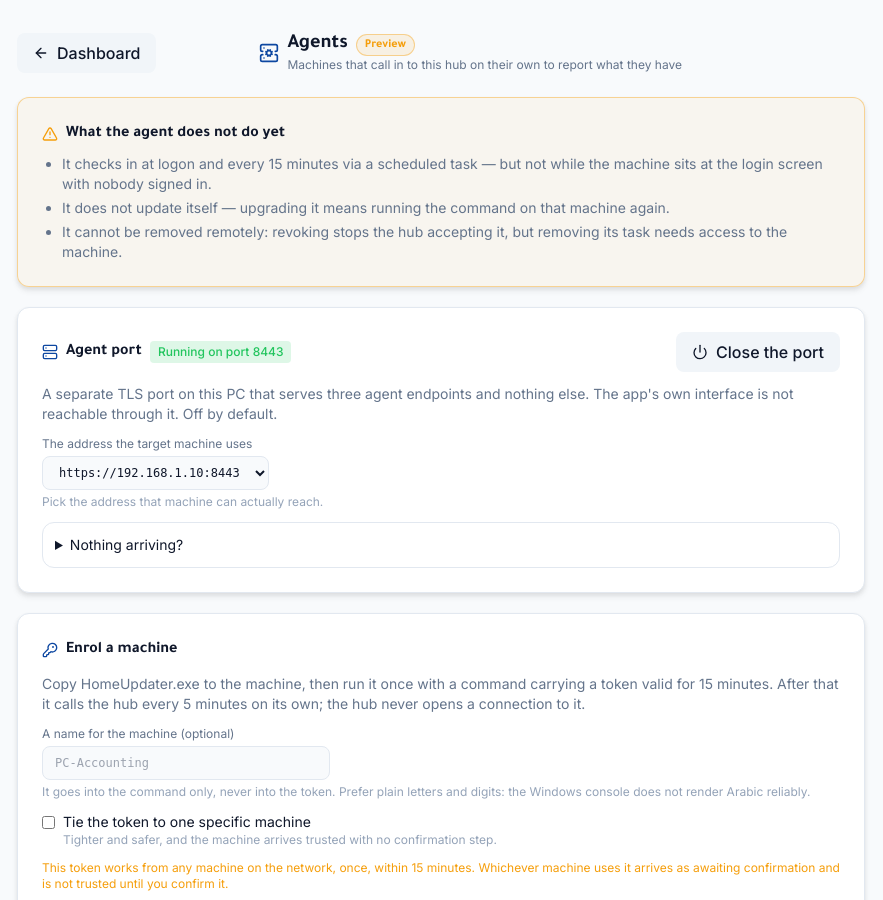
Test case: minting a token › asks where to get the fingerprint when binding to one machine
This screenshot has width=883, height=900.
Expected: the element with test id "listener-ready" is shown, [17, 307, 865, 593]
Click the checkbox labelled "Tie the token to one specific machine".
click(48, 822)  # box [42, 816, 55, 829]
(page scrolled)
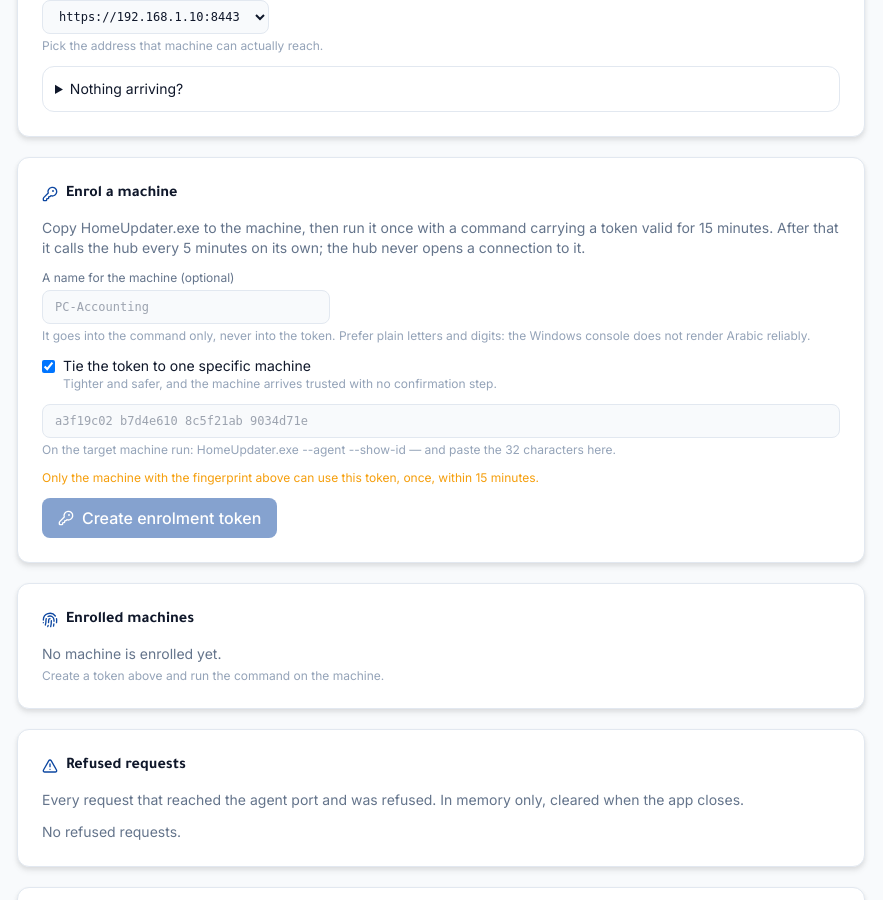
Expected: the text "--show-id" is shown, [42, 442, 616, 457]
